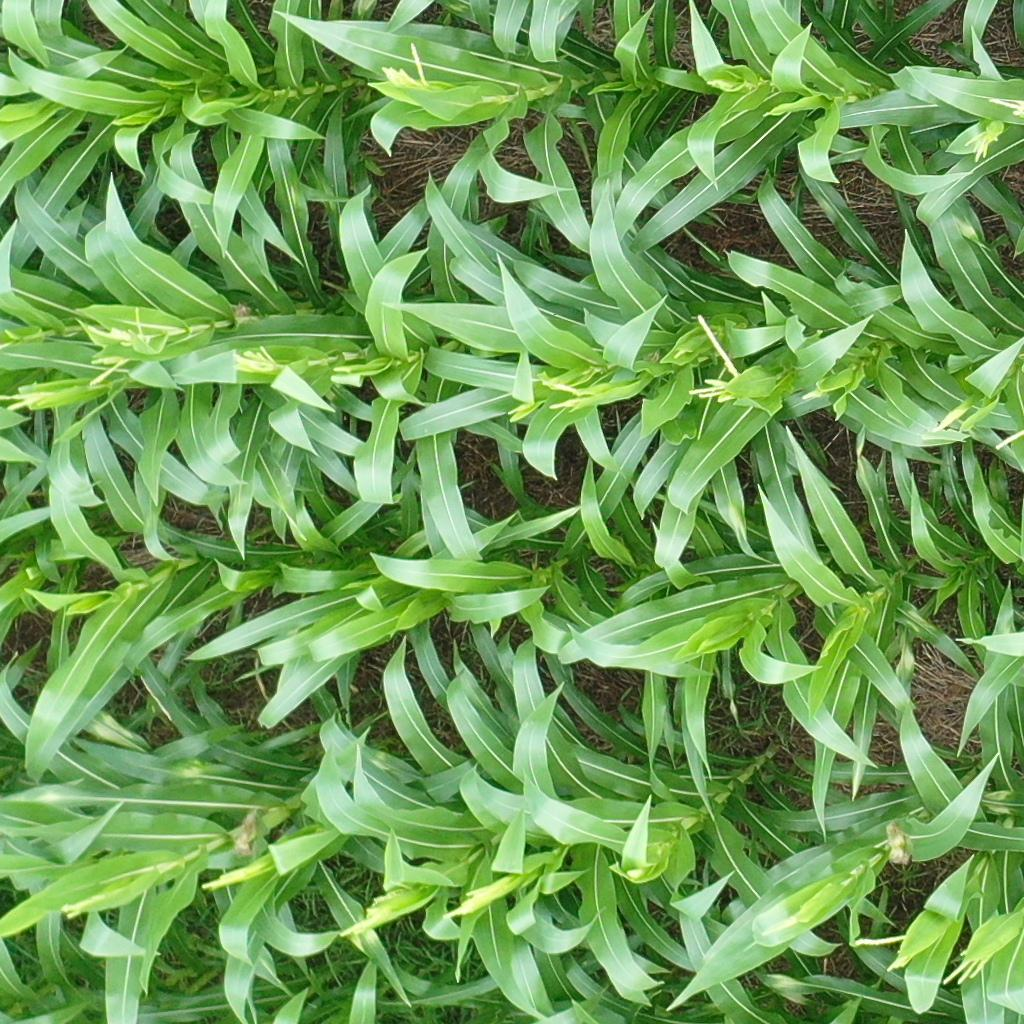Tassel: (85, 305, 164, 384), (682, 310, 744, 407), (846, 928, 919, 976), (437, 880, 516, 921), (935, 942, 993, 988), (380, 41, 432, 91), (336, 903, 398, 936), (536, 373, 588, 412), (224, 344, 280, 379), (961, 123, 1001, 164), (1, 387, 62, 413), (56, 892, 110, 918), (202, 869, 263, 891), (990, 92, 1024, 116)
